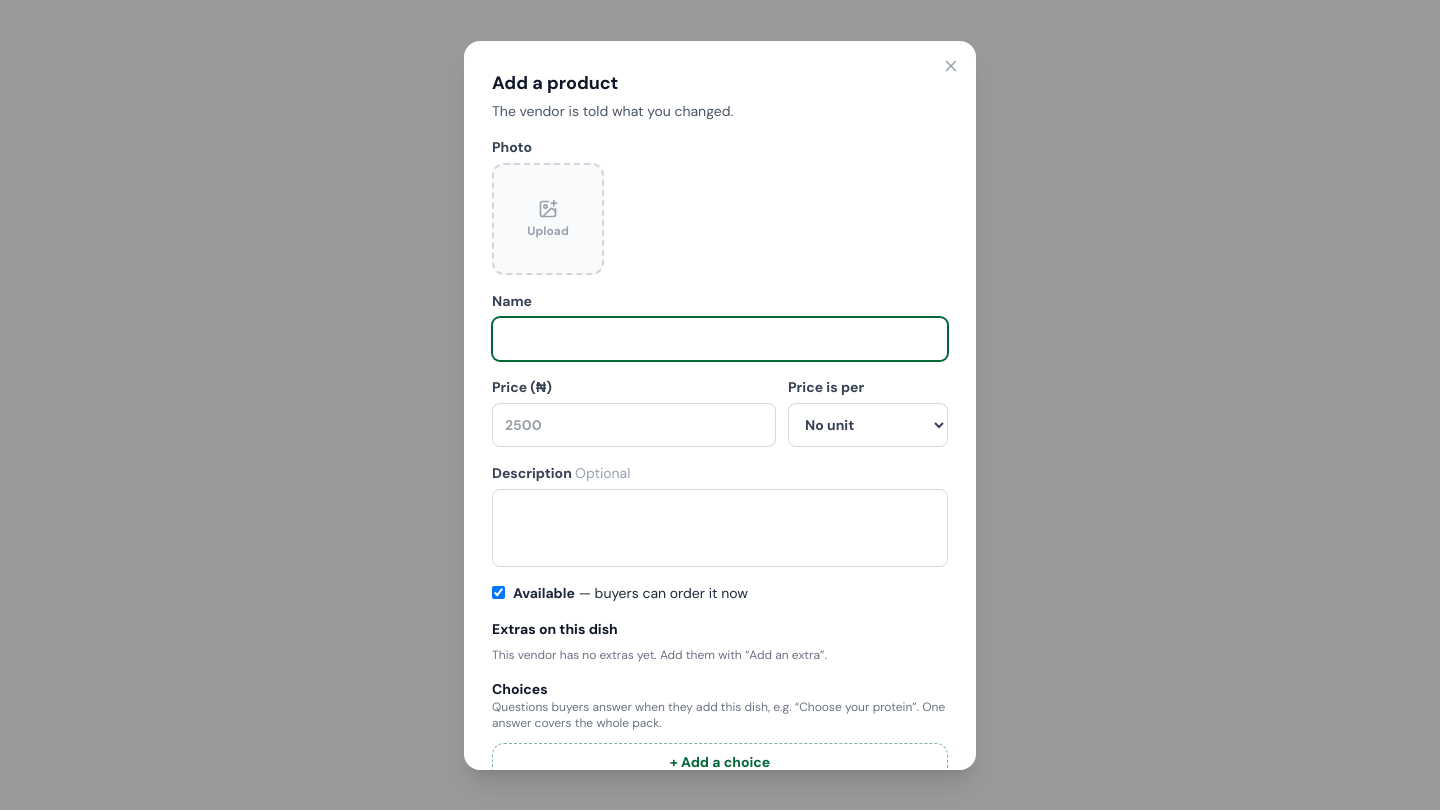
it: Products › refuses a price that isn't one
Type "Amala" into the field labelled "Name" at x=720, y=338, box x1=492 y1=316 x2=948 y2=360
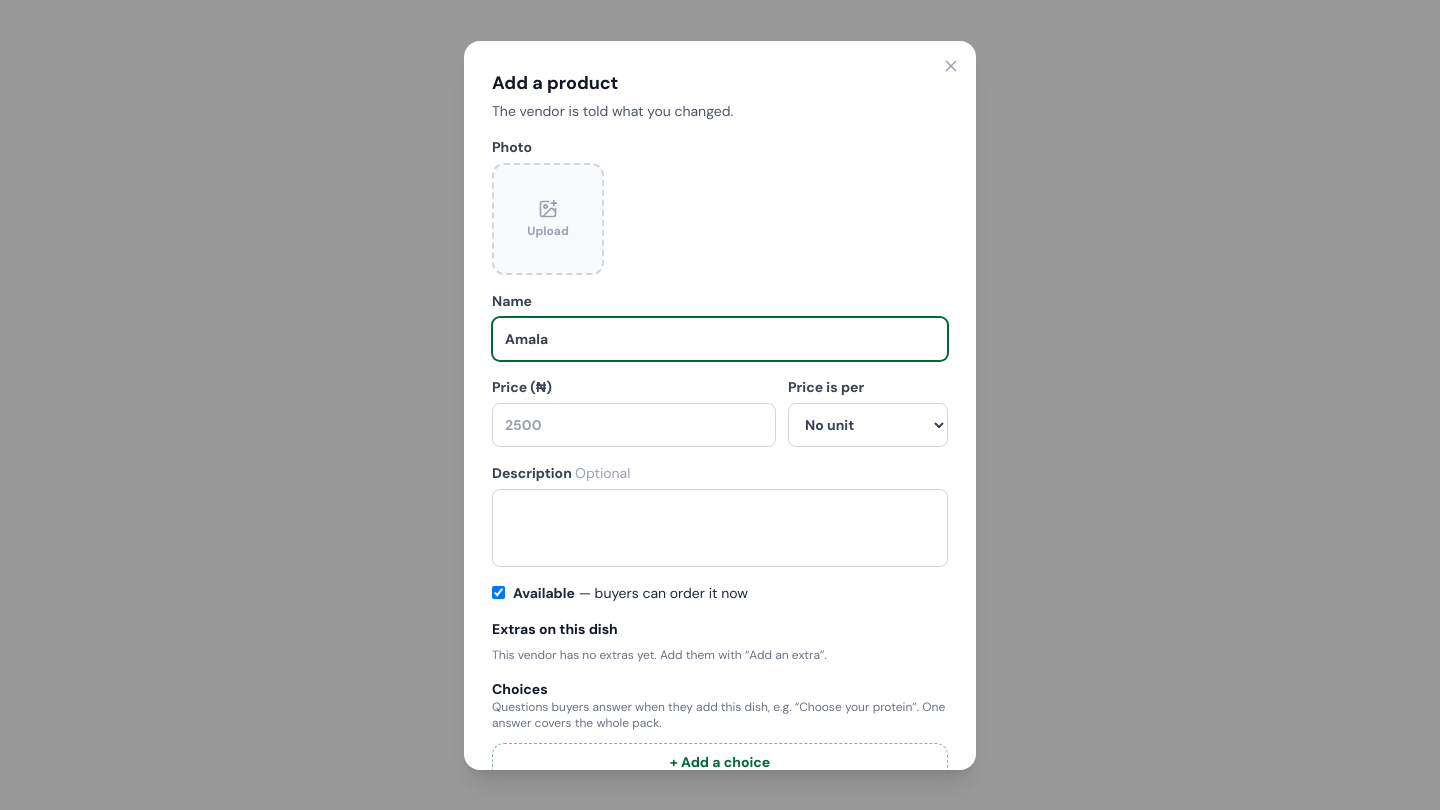
Type "abc" into the field labelled "Price (₦)" at x=634, y=424, box x1=492 y1=402 x2=776 y2=446
(page scrolled)
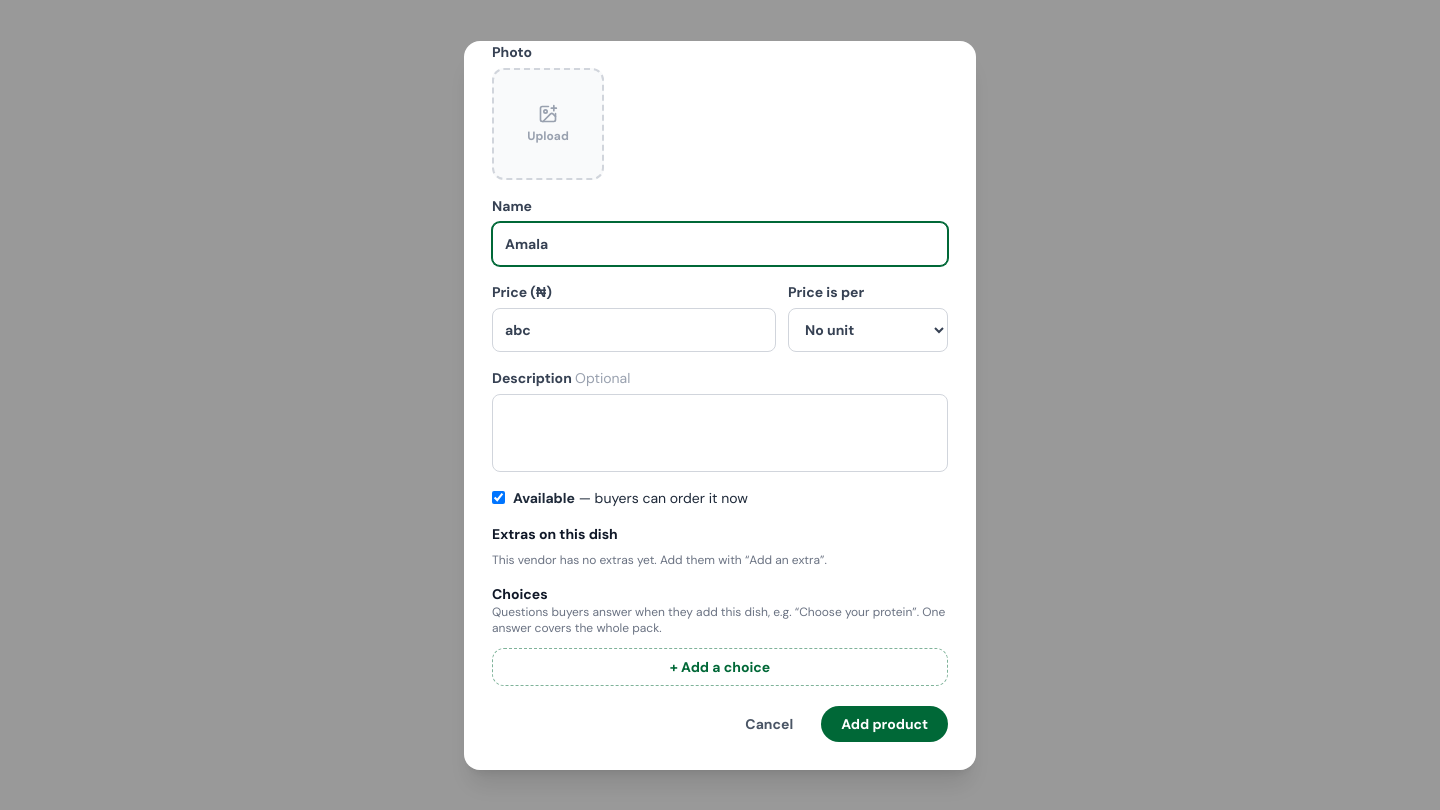
Click the button "Add product" at x=885, y=724, box x1=821 y1=706 x2=948 y2=742
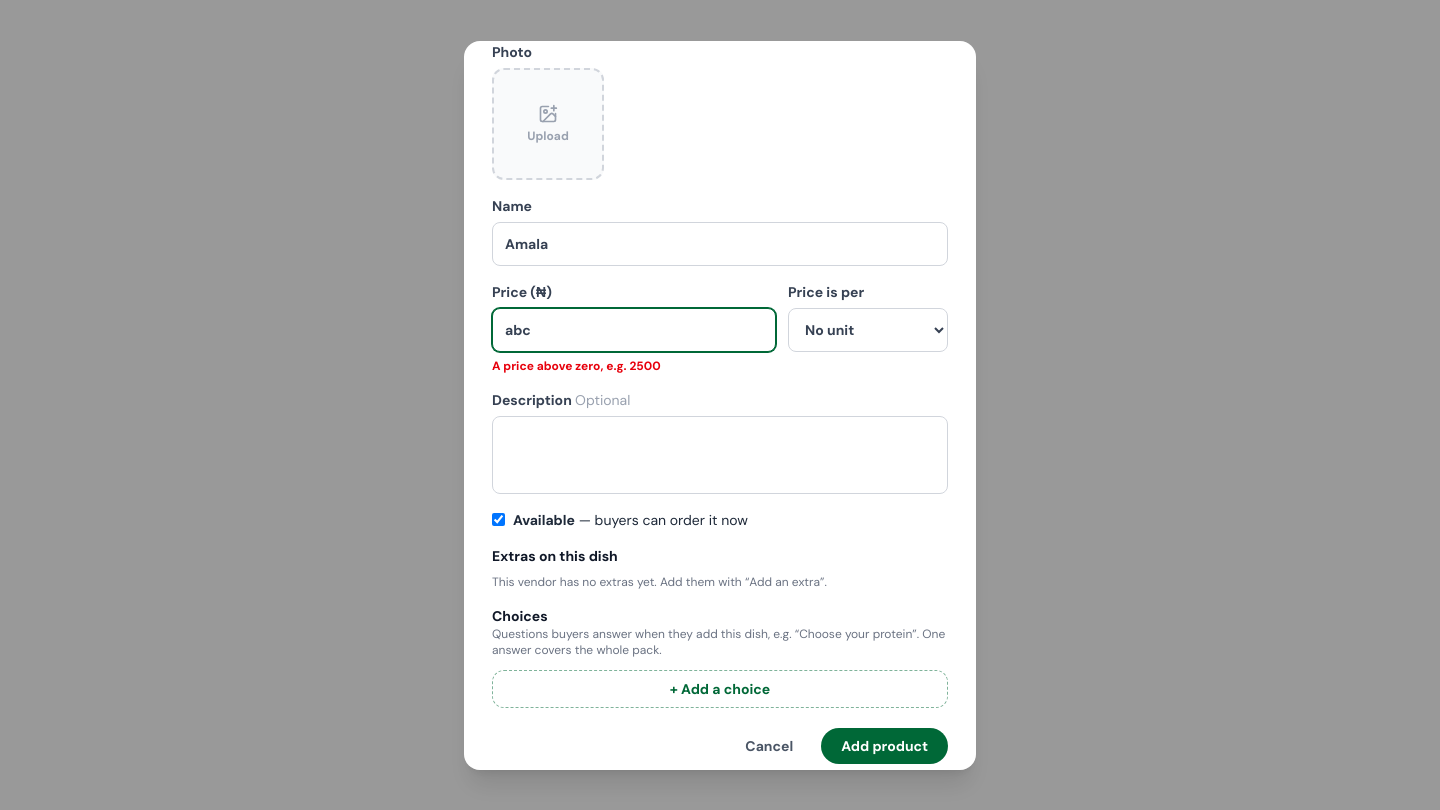
Result: the text "A price above zero, e.g. 2500" is shown at x1=492 y1=358 x2=661 y2=374
